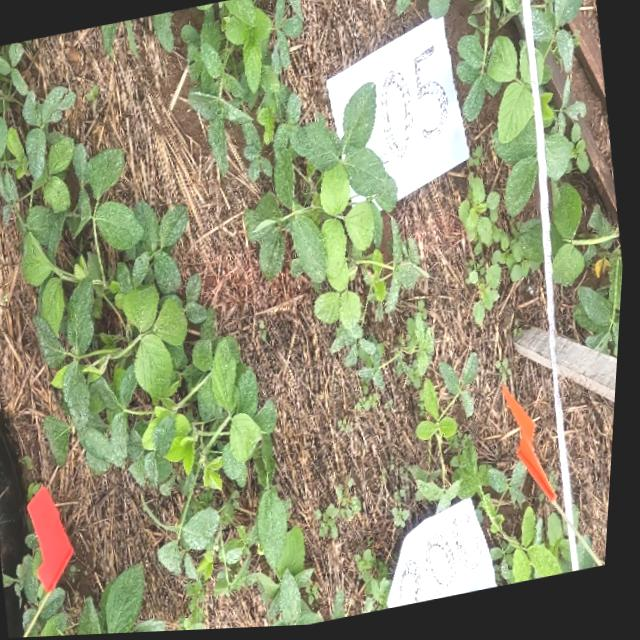caruru_weed: (461, 178, 543, 327), (323, 482, 369, 542), (396, 468, 435, 531), (363, 553, 399, 617), (361, 385, 384, 416), (186, 620, 213, 632), (344, 422, 358, 437)
soy_plant: (0, 42, 327, 629), (181, 0, 422, 363), (458, 0, 541, 221), (419, 359, 533, 515), (554, 188, 626, 362), (533, 0, 591, 188), (337, 306, 440, 393), (10, 534, 74, 638), (83, 567, 173, 636), (499, 512, 575, 589), (512, 224, 545, 272), (584, 548, 603, 575)
